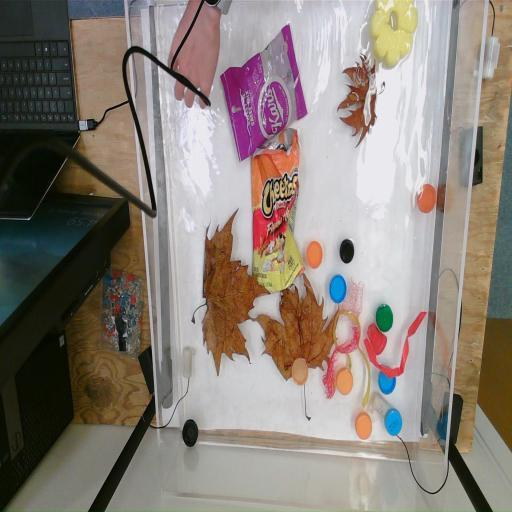Bottle Cap: (374, 302, 394, 336), (379, 364, 396, 399), (181, 418, 200, 448), (418, 184, 438, 212), (330, 272, 347, 304), (292, 356, 310, 386), (386, 406, 402, 438), (338, 364, 352, 396), (356, 414, 372, 442), (306, 242, 322, 267), (340, 239, 354, 265)
Cone Cap: (366, 318, 388, 354)
Leaf: (193, 210, 270, 376), (254, 272, 338, 421), (336, 53, 387, 150)
Netting: (321, 324, 360, 404), (346, 277, 364, 317)
Plastic Bag: (220, 22, 308, 160), (250, 124, 306, 292)
Plastic Strand: (364, 308, 426, 379), (332, 304, 372, 408)
Sponge: (368, 2, 418, 69)
